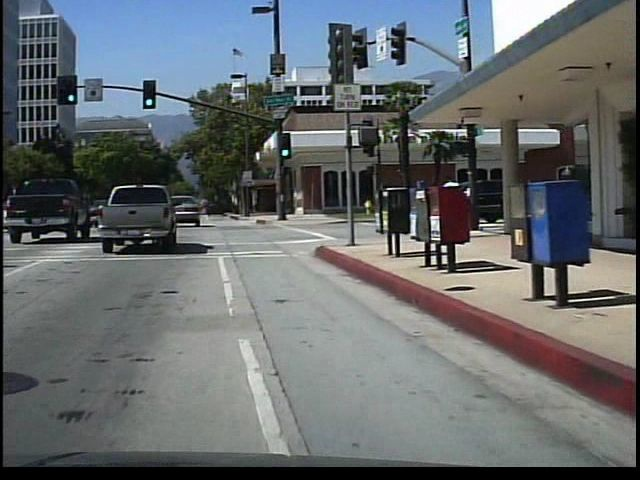person: (445, 171, 470, 239)
